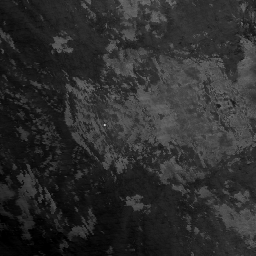Target: (102, 123, 108, 128)
